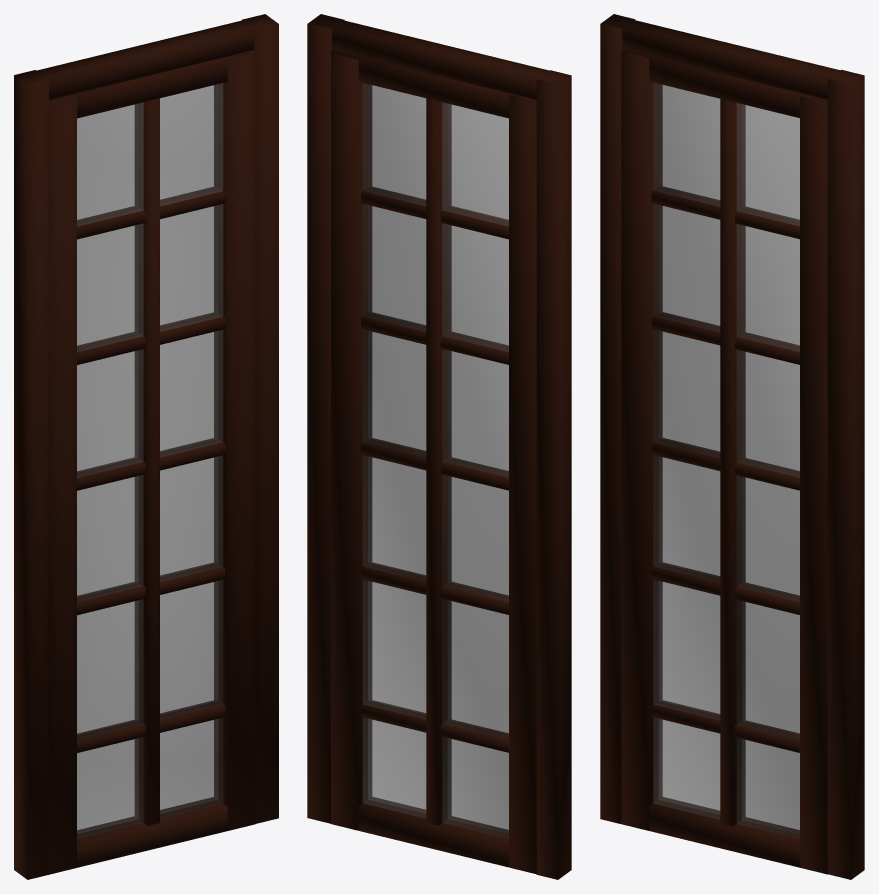
The model's file is patioDoorSideWindow.obj.
The picture shows the model from 3 angles, left to right: view 1: azimuth 30°, elevation 25°; view 2: azimuth 150°, elevation 25°; view 3: azimuth 330°, elevation 25°; orthographic projection.
Parts seen in each view (by area): view 1: sweethome3d_window_pane.002, Cube_7_1.001, frame, Cube_7.001, frame_1, Cube_4.002, frame_2, Cube_8_1.001, Cube_8.001, Cube_10_1.001, Cube_10_2.001, Cube_10_3.001 (+2 smaller); view 2: sweethome3d_window_pane.002, Cube_7_1.001, frame, Cube_7.001, frame_1, Cube_4.002, frame_2, Cube_8_1.001, Cube_8.001, Cube_10_1.001, Cube_10_3.001, Cube_10_4.001 (+2 smaller); view 3: sweethome3d_window_pane.002, Cube_7.001, frame_1, Cube_7_1.001, Cube_4.002, frame, frame_2, Cube_8_1.001, Cube_8.001, Cube_10.001, Cube_10_4.001, Cube_10_2.001 (+2 smaller).
Part boxes in pixels (<box>): sweethome3d_window_pane.002: <box>77,83,222,838</box>; Cube_7_1.001: <box>214,53,255,830</box>; frame: <box>14,70,48,879</box>; Cube_7.001: <box>49,94,76,874</box>; frame_1: <box>241,14,278,823</box>; Cube_4.002: <box>135,98,159,825</box>; frame_2: <box>16,14,277,99</box>; Cube_8_1.001: <box>77,797,227,867</box>; Cube_8.001: <box>49,50,255,118</box>; Cube_10_1.001: <box>77,312,225,364</box>; Cube_10_2.001: <box>77,437,225,490</box>; Cube_10_3.001: <box>77,562,225,615</box>; sweethome3d_window_pane.002: <box>363,83,508,838</box>; Cube_7_1.001: <box>331,53,371,830</box>; frame: <box>536,70,571,879</box>; Cube_7.001: <box>509,94,536,874</box>; frame_1: <box>307,14,344,823</box>; Cube_4.002: <box>426,98,451,825</box>; frame_2: <box>308,14,570,99</box>; Cube_8_1.001: <box>358,797,508,867</box>; Cube_8.001: <box>331,50,536,118</box>; Cube_10_1.001: <box>361,312,508,364</box>; Cube_10_3.001: <box>361,562,508,614</box>; Cube_10_4.001: <box>361,700,508,752</box>; sweethome3d_window_pane.002: <box>653,83,799,838</box>; Cube_7.001: <box>621,51,662,830</box>; frame_1: <box>827,69,864,879</box>; Cube_7_1.001: <box>800,96,827,874</box>; Cube_4.002: <box>720,99,745,826</box>; frame: <box>600,14,635,823</box>; frame_2: <box>601,15,863,99</box>; Cube_8_1.001: <box>649,797,799,867</box>; Cube_8.001: <box>621,49,827,117</box>; Cube_10.001: <box>651,186,799,239</box>; Cube_10_4.001: <box>651,700,799,752</box>; Cube_10_2.001: <box>651,437,799,490</box>.
Size of the model in its own units: 4.93 by 14.9 by 0.4704.
